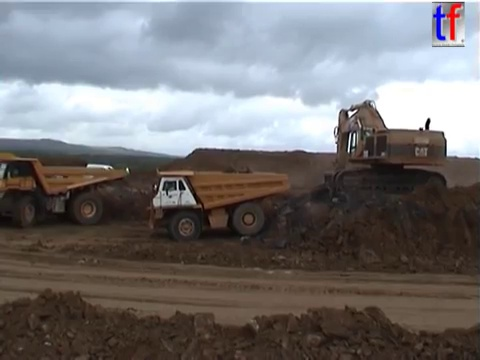excavator: (320, 98, 449, 202)
truck: (145, 166, 291, 244), (1, 150, 127, 229)
worker: (123, 164, 131, 182)
